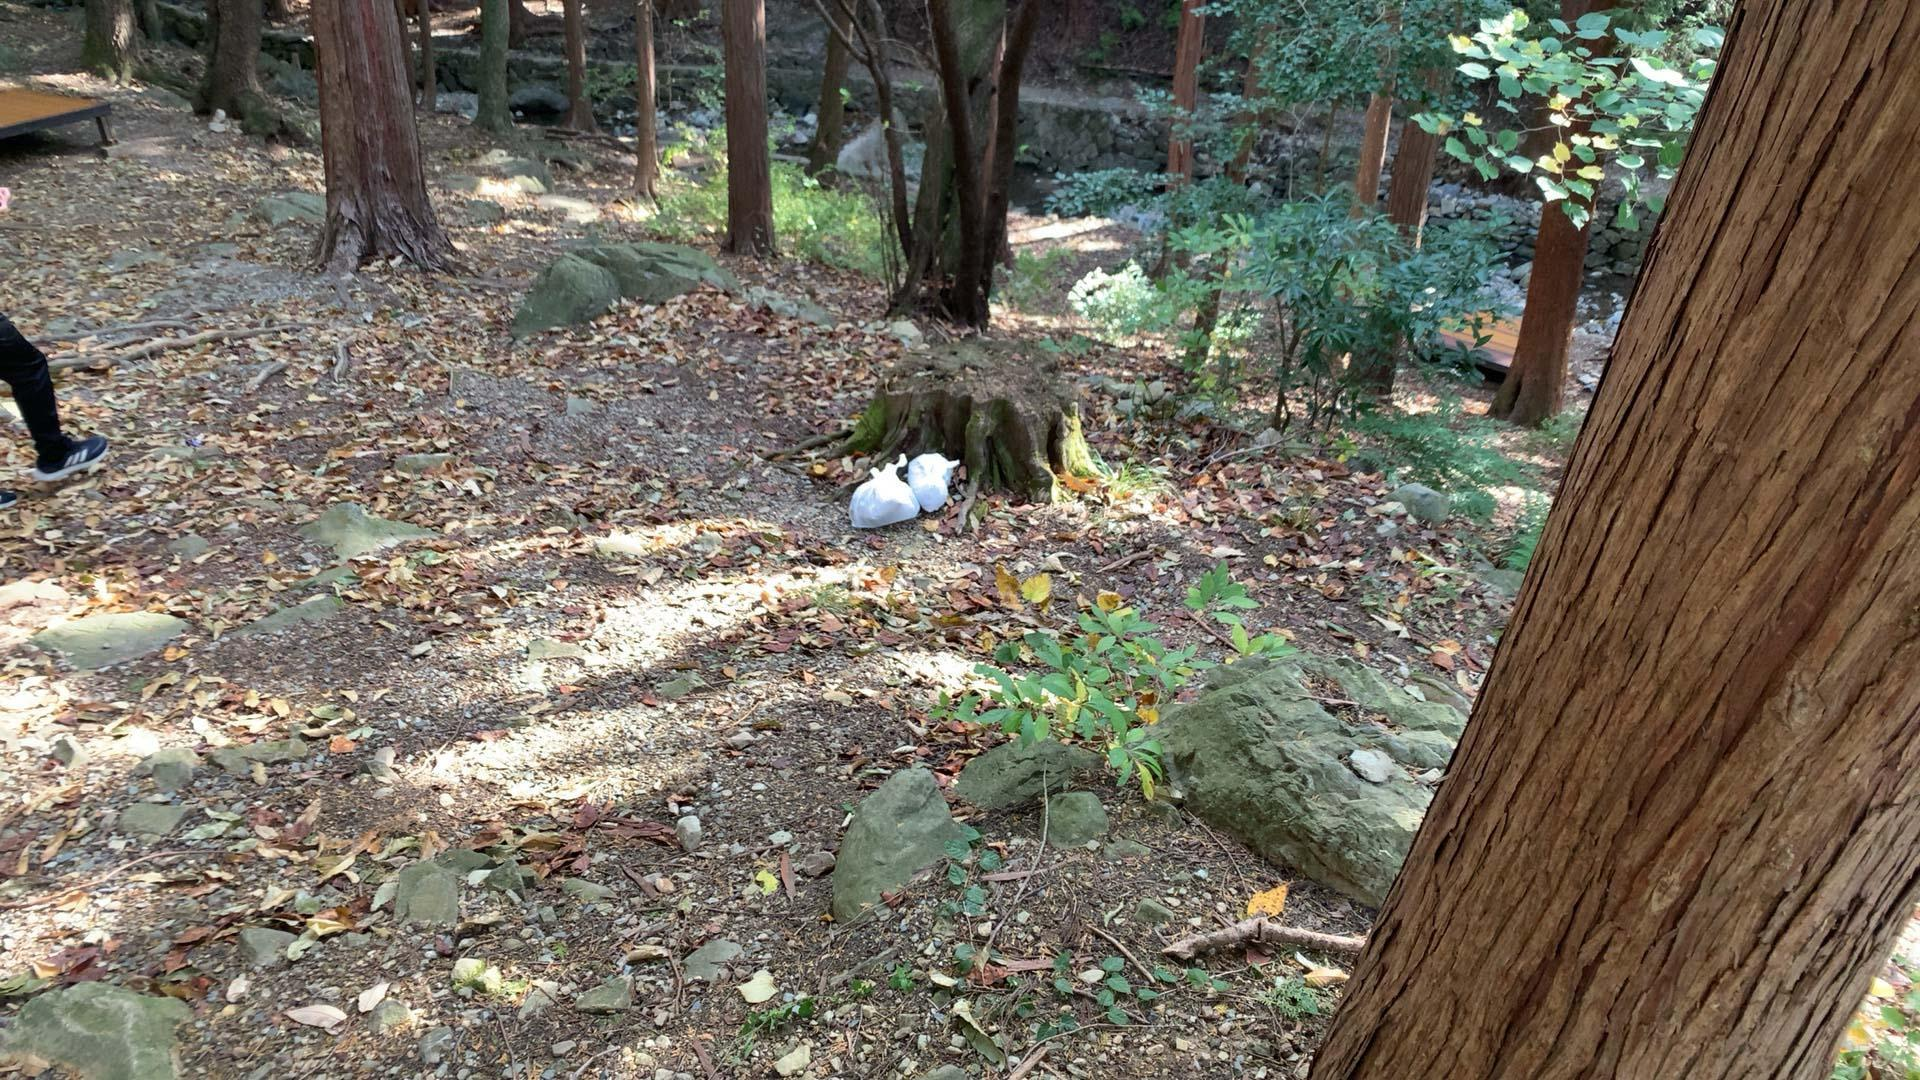white_bag: (845, 452, 923, 527), (906, 448, 959, 513)
